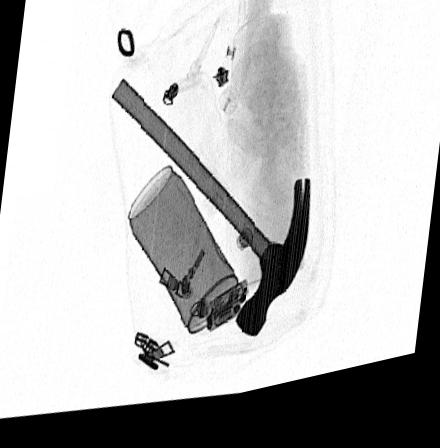Hammer: (110, 81, 311, 350)
